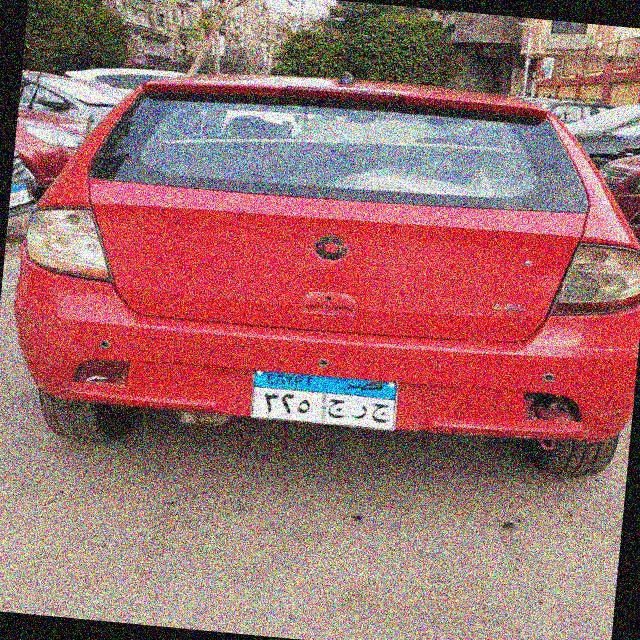License Plate: (247, 366, 403, 435)
